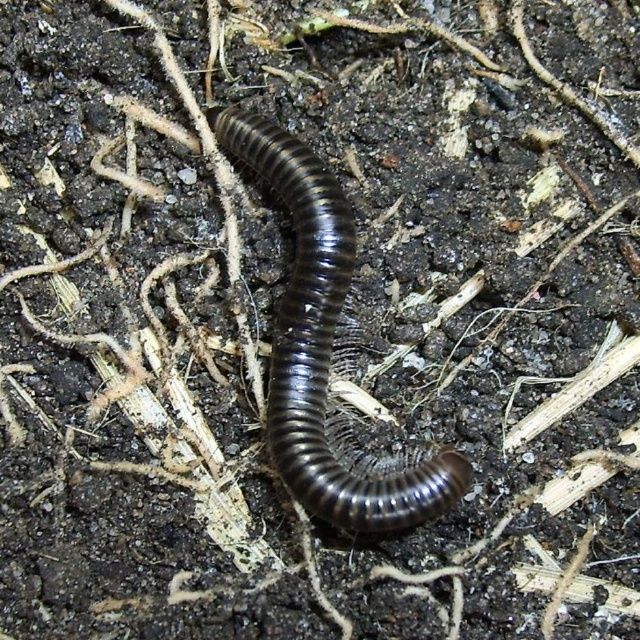Centipede: (181, 107, 449, 559)
